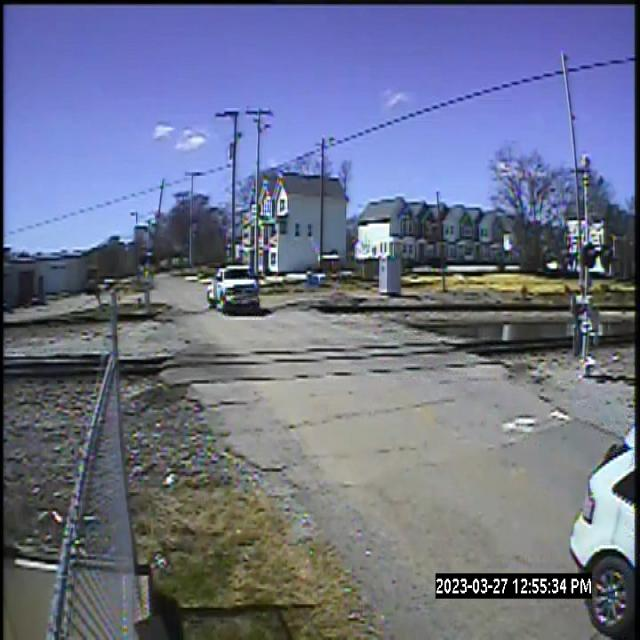barrier: (543, 40, 604, 233), (148, 175, 172, 251)
car: (569, 404, 640, 640), (209, 250, 266, 317)
rails: (6, 320, 640, 364), (7, 287, 640, 325)
traffic-signal: (569, 235, 622, 383), (136, 254, 164, 324)
